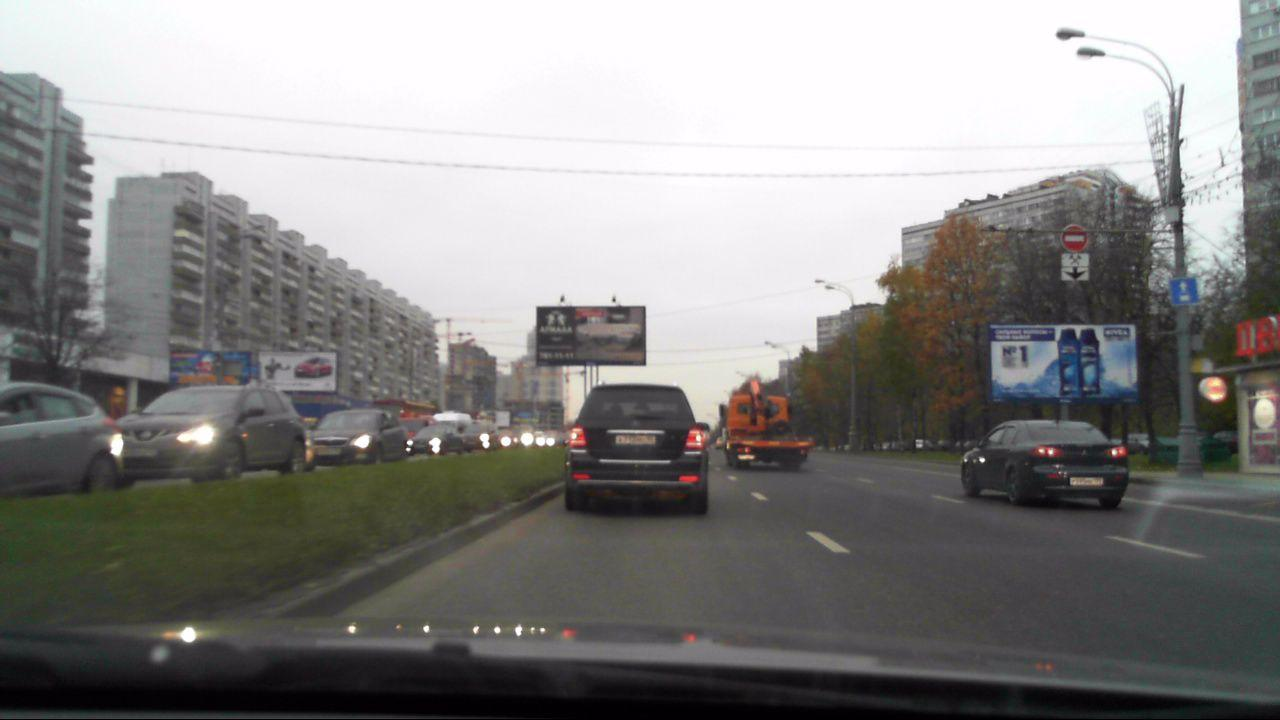3_1: (1061, 225, 1087, 251)
5_14_1: (1170, 277, 1198, 307)
8_14: (1061, 267, 1090, 280)
8_5_2: (1061, 253, 1089, 267)
